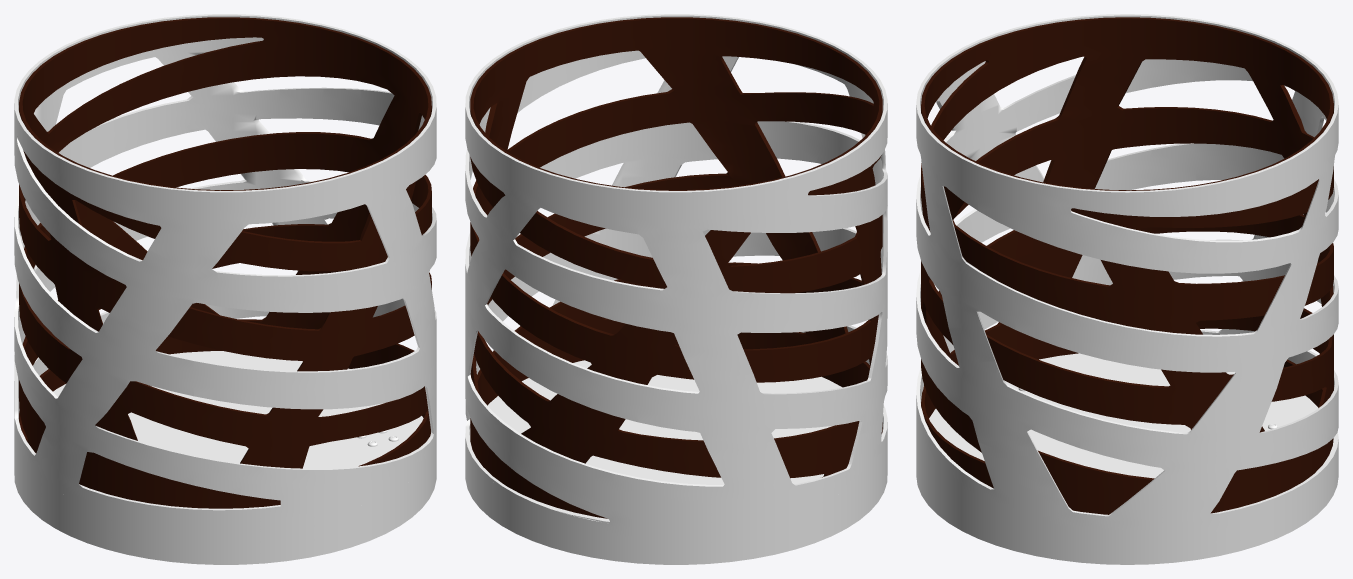
The model's file is kamin.glb.
3 renders of one model, left to right at view 1: azimuth 30°, elevation 25°; view 2: azimuth 150°, elevation 25°; view 3: azimuth 270°, elevation 25°, orthographic.
Parts seen in each view (by area): view 1: белый внешн, коричневый внутр, низ белый; view 2: белый внешн, коричневый внутр, низ белый; view 3: белый внешн, коричневый внутр, низ белый.
Part boxes in pixels (x1,y1,x2,y2): белый внешн: (14,14,436,564); коричневый внутр: (19,17,431,508); низ белый: (14,351,423,533); белый внешн: (465,14,887,564); коричневый внутр: (470,17,882,518); низ белый: (469,360,887,533); белый внешн: (916,14,1338,564); коричневый внутр: (921,17,1333,514); низ белый: (919,353,1338,531).
Bounding box in the file's own units: 0.04 × 0.04 × 0.04.
